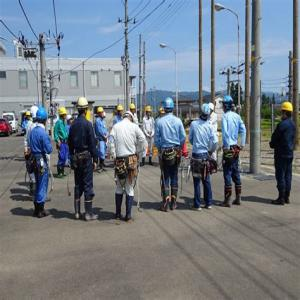blue: (37, 108, 49, 129), (164, 97, 175, 117), (200, 103, 211, 122), (223, 97, 234, 114)
yellow: (76, 97, 90, 119), (281, 102, 294, 123), (60, 107, 68, 121), (117, 104, 125, 118), (145, 105, 153, 118), (98, 107, 105, 120), (130, 103, 137, 116), (159, 108, 166, 119), (26, 110, 32, 122)
